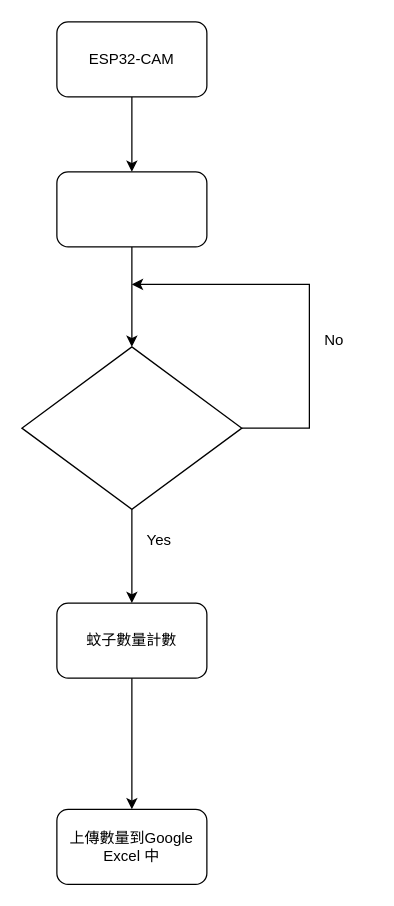
Image size: 394x906. Some labels were removed from this diagram. Here are the shapes that lost their labels. From the top down, the box of each, then its label:
(56, 171, 207, 247): 光敏電阻感測器
(21, 346, 242, 509): 判斷盒子內光源是否減少
